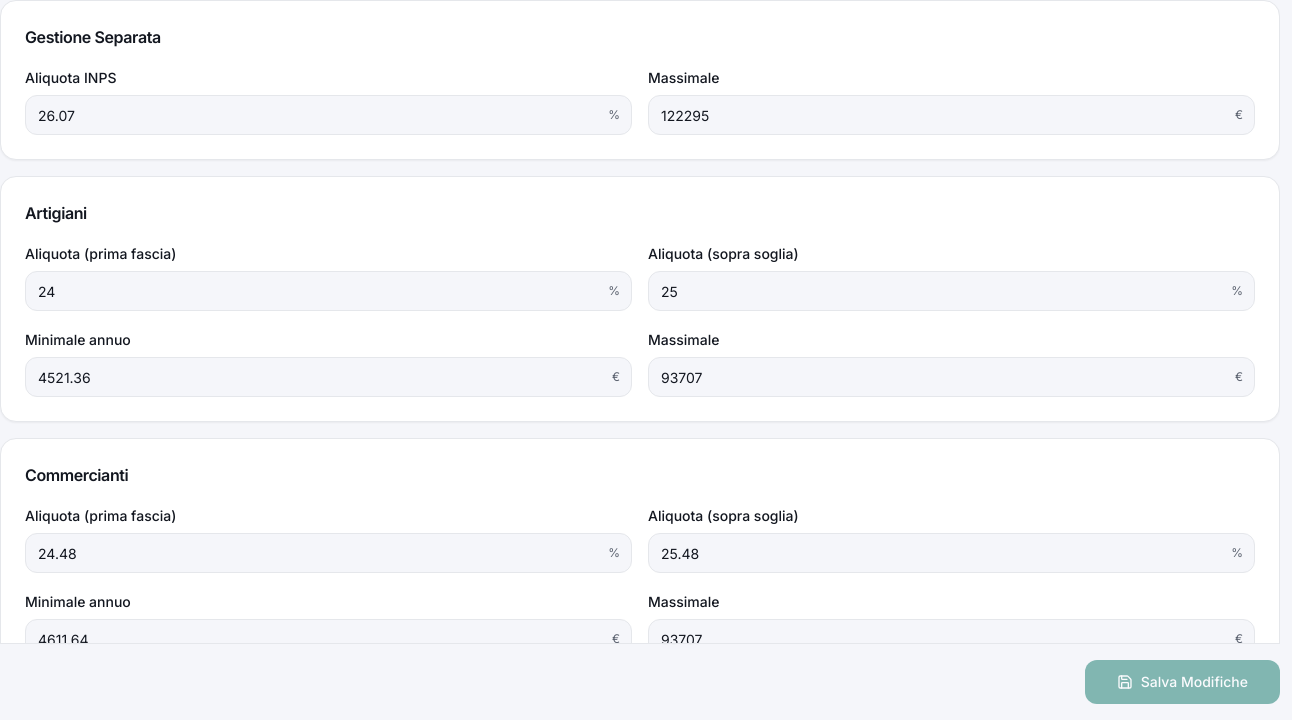
Test: FiscalRulesForm › save button si abilita dopo modifica campo (dirty=true)
The image size is (1292, 720).
Replace the text in the field labelled "Aliquota INPS" with "27.00". click: (328, 115)
box: [25, 95, 632, 135]
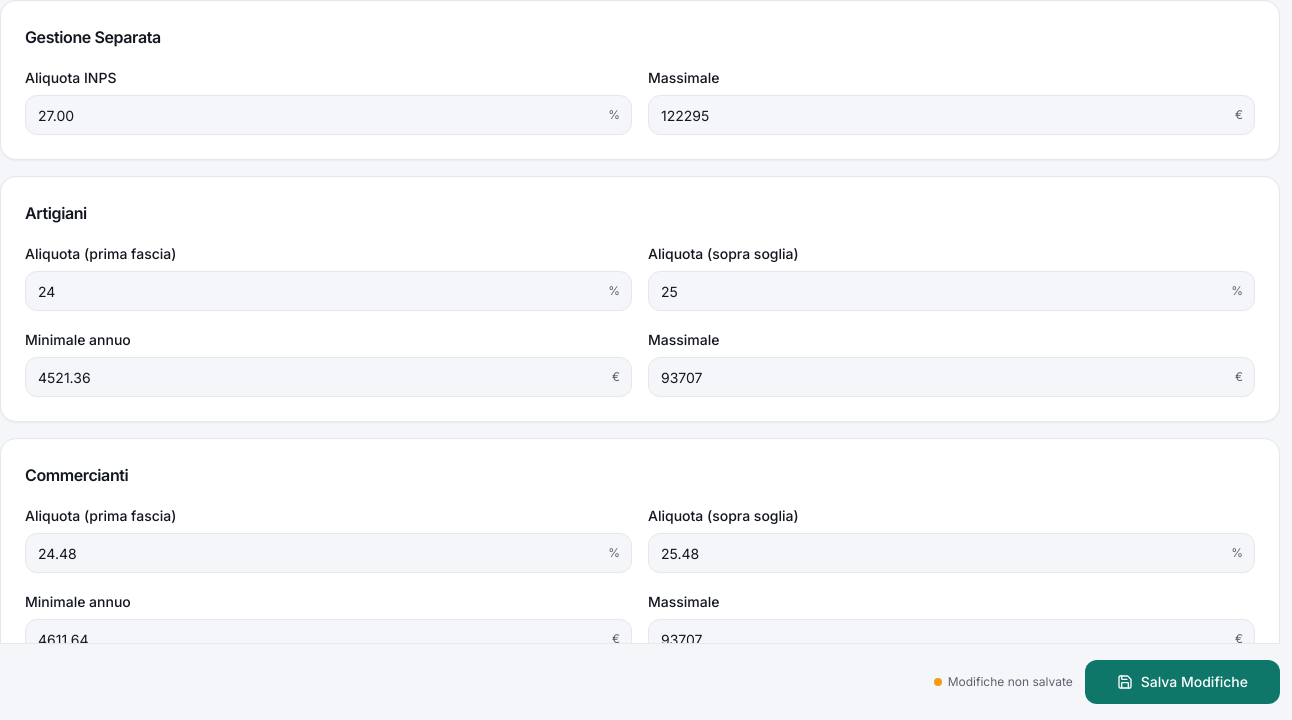
Check: the button "Salva Modifiche" is enabled, box [1085, 660, 1280, 704]
